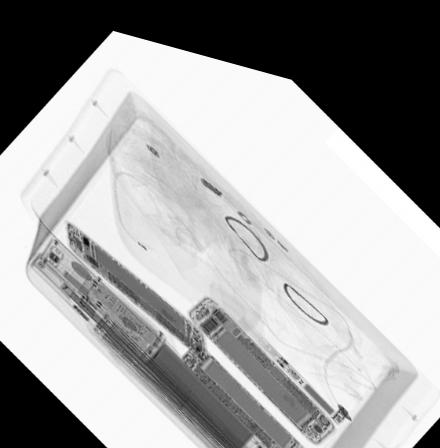Powerbank: (145, 330, 279, 448)
